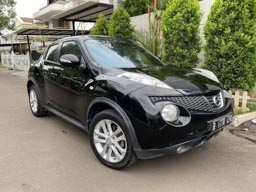plat: (214, 113, 233, 133)
